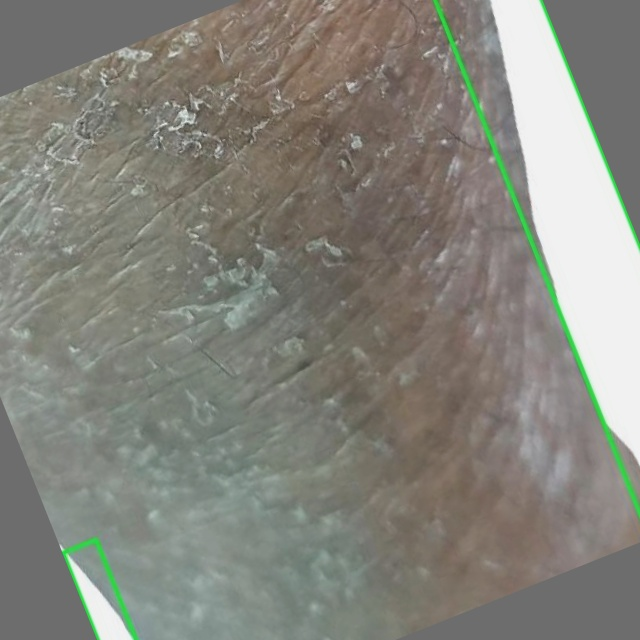Tinea Corporis: (435, 0, 639, 512)
